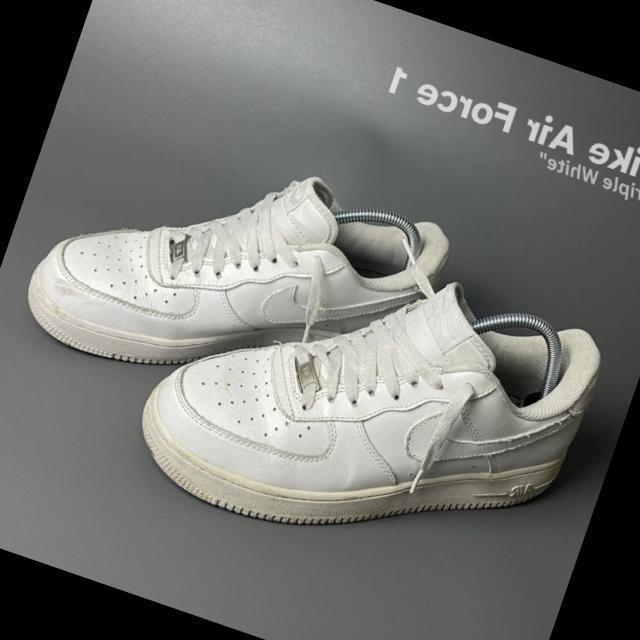nike fake air force: (116, 199, 633, 621), (0, 99, 482, 468)
